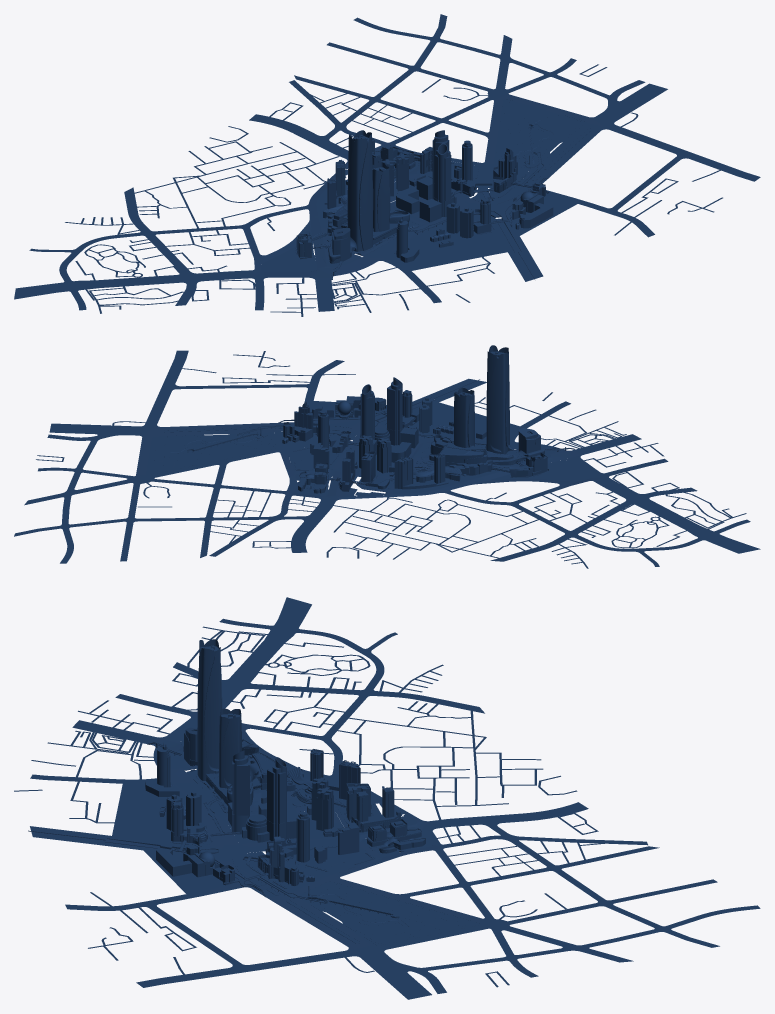
The model's file is demo.glb.
3 renders of one model, top to bottom at view 1: azimuth 30°, elevation 25°; view 2: azimuth 150°, elevation 25°; view 3: azimuth 270°, elevation 25°, orthographic. The views are drawn at different scales.
Visible parts, largest first — view 1: Shape4735; view 2: Shape4735; view 3: Shape4735.
Part boxes in pixels (bbox=[...]): Shape4735: bbox=[14, 14, 760, 316]; Shape4735: bbox=[14, 345, 760, 568]; Shape4735: bbox=[14, 597, 760, 999].
Bounding box in the file's own units: 24.28 × 3.81 × 19.03.
